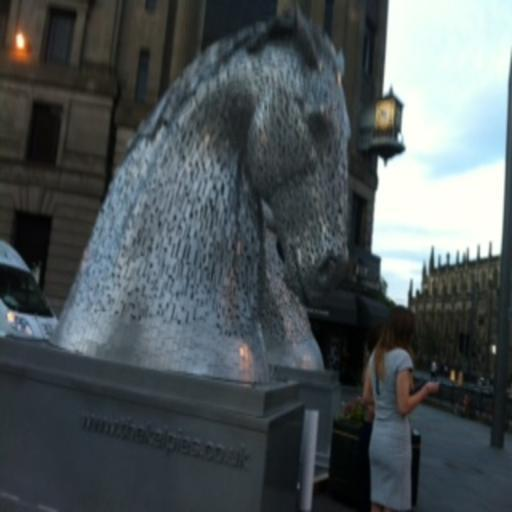horse: (46, 0, 356, 350), (261, 208, 320, 374)
